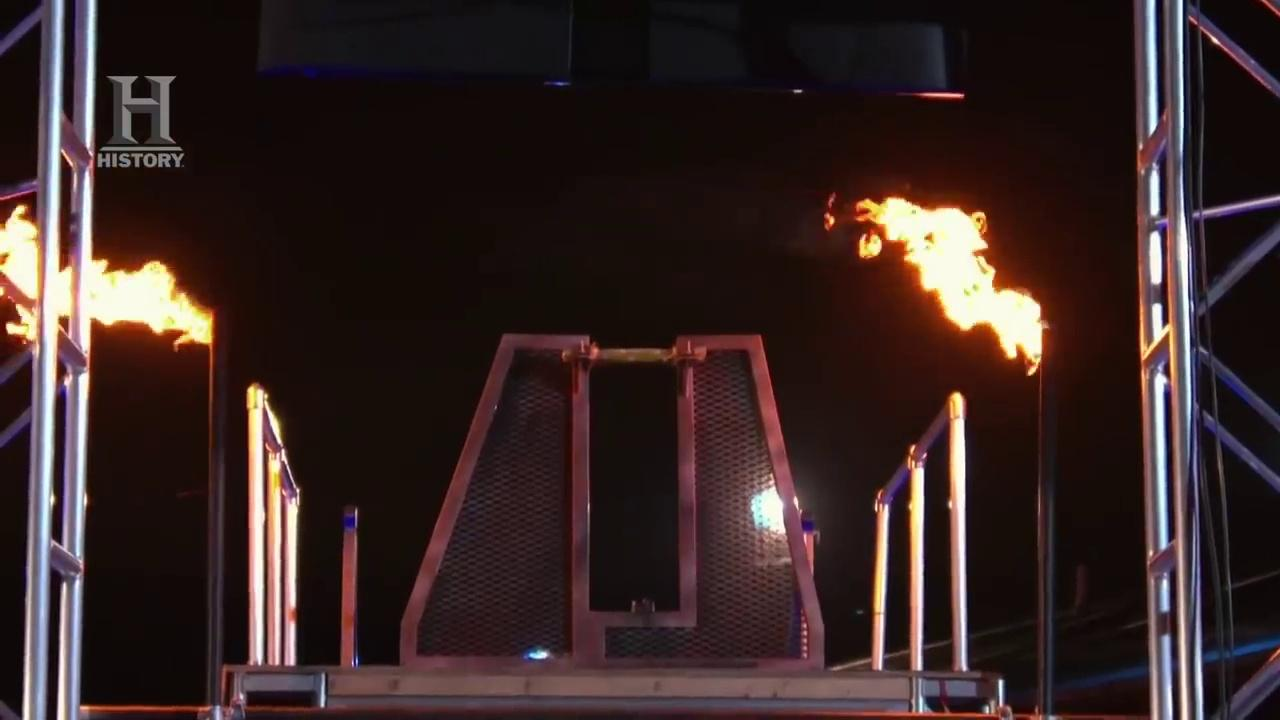fire: (811, 179, 1089, 389), (3, 211, 241, 365)
